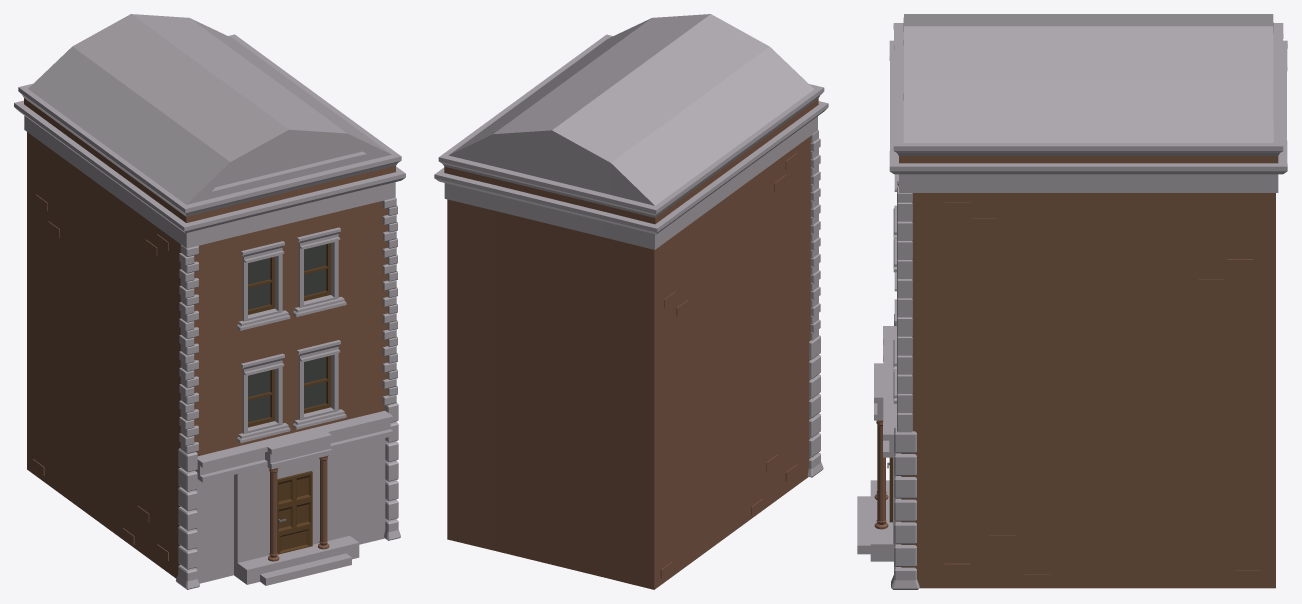
Rendered from town-house.glb.
3 renders of one model, left to right at view 1: azimuth 30°, elevation 25°; view 2: azimuth 150°, elevation 25°; view 3: azimuth 270°, elevation 25°, orthographic. The views are drawn at different scales.
Parts seen in each view (by area): view 1: Building3_Small; view 2: Building3_Small; view 3: Building3_Small.
Part boxes in pixels (<box>): Building3_Small: <box>14,14,405,589</box>; Building3_Small: <box>434,14,828,589</box>; Building3_Small: <box>857,14,1287,589</box>.
Bounding box in the file's own units: 3.05 × 5.68 × 4.4.
Materials: 1 (1 with a texture image).
